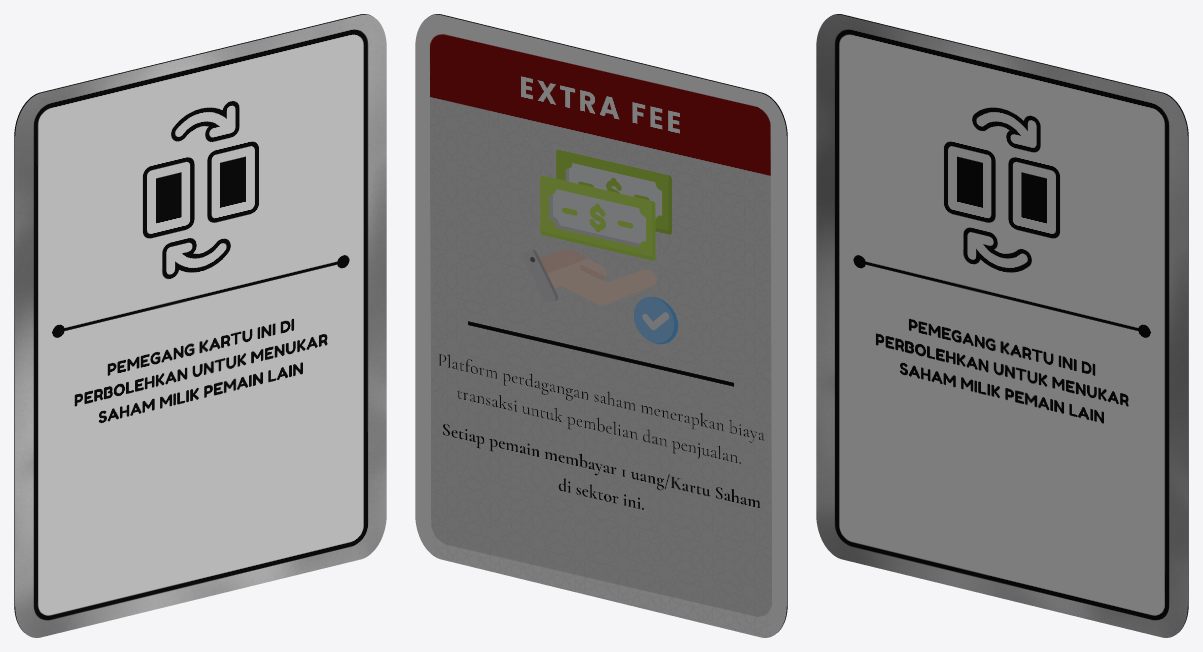
File: Extra Fee 2.fbx
The picture shows the model from 3 angles, left to right: view 1: azimuth 30°, elevation 25°; view 2: azimuth 150°, elevation 25°; view 3: azimuth 330°, elevation 25°; orthographic projection.
Visible parts, largest first — view 1: Cube; view 2: Cube; view 3: Cube.
Boxes of the visible parts, left/top/right/bottom form: Cube: left=14, top=14, right=386, bottom=637; Cube: left=415, top=14, right=787, bottom=637; Cube: left=816, top=14, right=1188, bottom=637.
Bounding box in the file's own units: 500 × 700 × 2.
